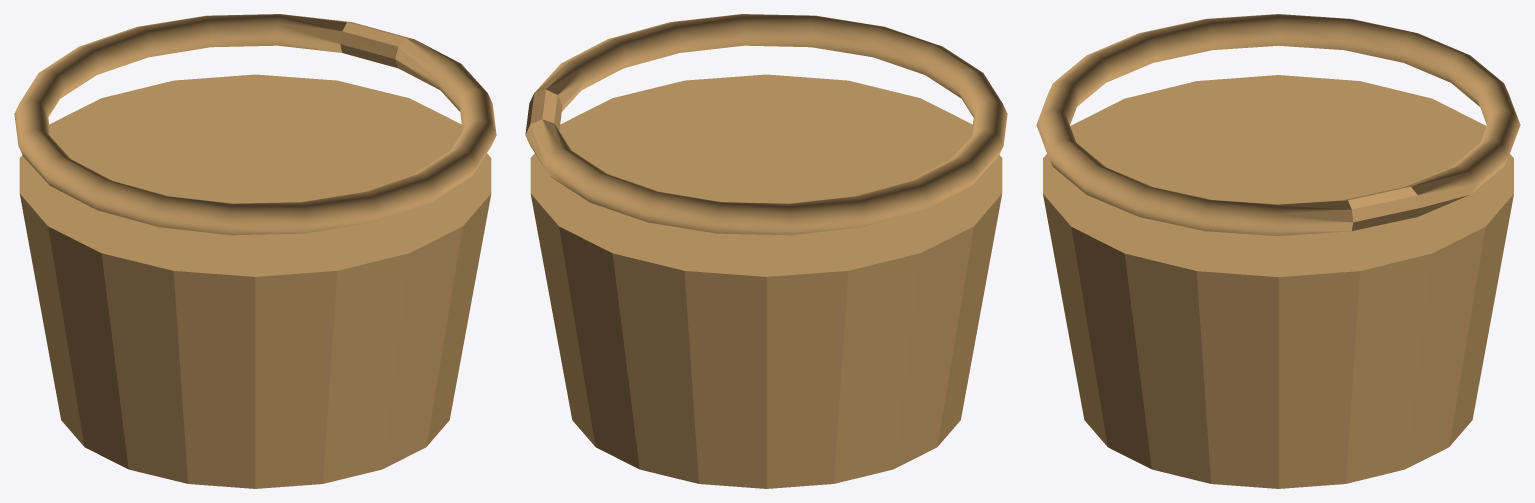
File: gio_may_tre.obj
3 renders of one model, left to right at view 1: azimuth 30°, elevation 25°; view 2: azimuth 150°, elevation 25°; view 3: azimuth 270°, elevation 25°, orthographic.
Bounding box in the file's own units: 0.344 × 0.232 × 0.344.
